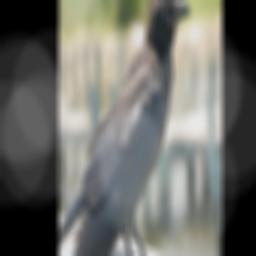Crow: (60, 0, 192, 256)
